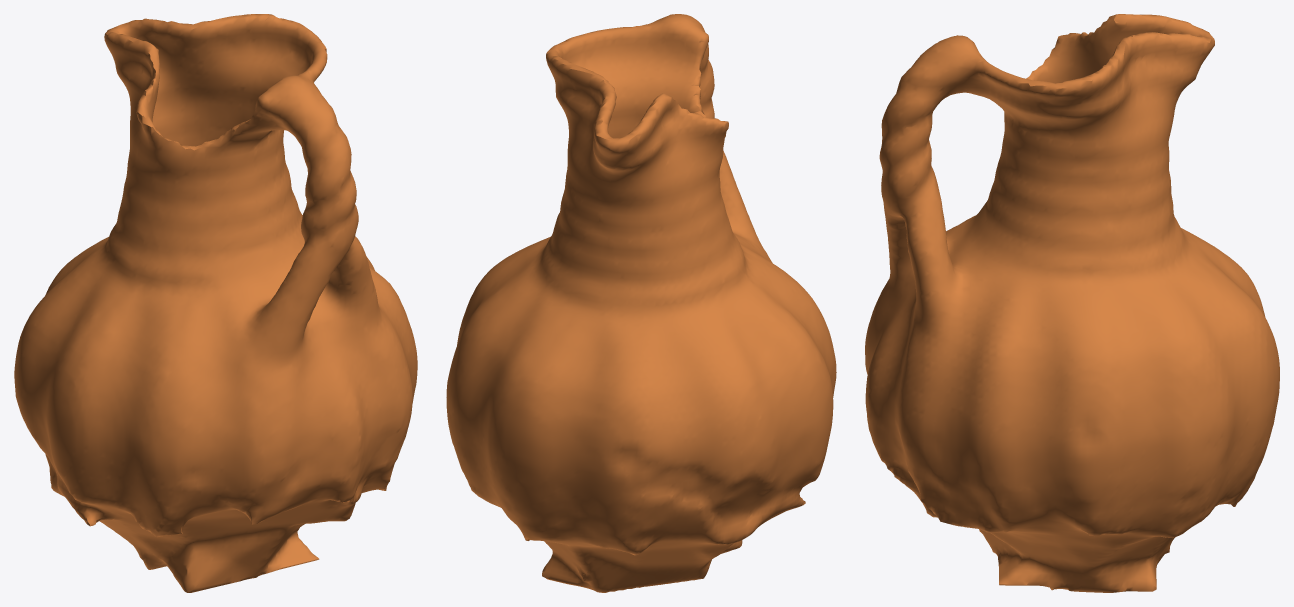
The picture shows the model from 3 angles, left to right: view 1: azimuth 30°, elevation 25°; view 2: azimuth 150°, elevation 25°; view 3: azimuth 270°, elevation 25°; orthographic projection. The views are drawn at different scales.
Parts seen in each view (by area): view 1: meshNode_Material_u1_v1_0; view 2: meshNode_Material_u1_v1_0; view 3: meshNode_Material_u1_v1_0.
Part boxes in pixels (box(x1,y1,x2,y2)): meshNode_Material_u1_v1_0: box(14, 14, 417, 592); meshNode_Material_u1_v1_0: box(446, 14, 836, 592); meshNode_Material_u1_v1_0: box(865, 14, 1279, 592).
Size of the model in its own units: 0.7074 by 1 by 0.7044.
